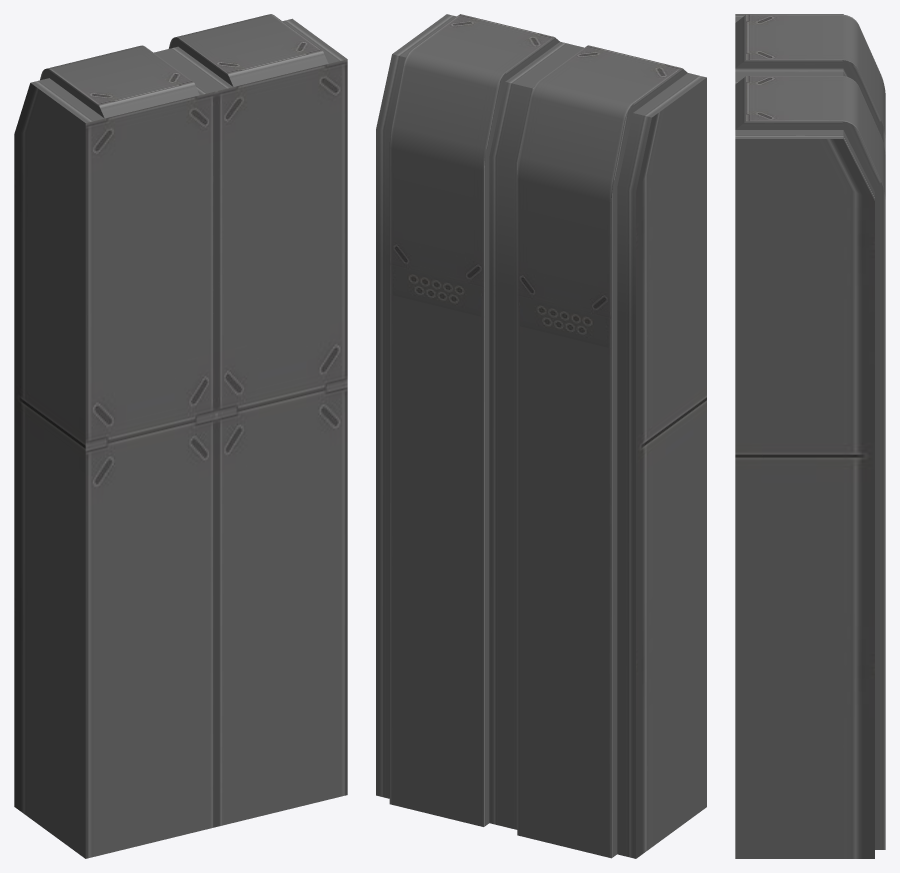
The picture shows the model from 3 angles, left to right: view 1: azimuth 30°, elevation 25°; view 2: azimuth 150°, elevation 25°; view 3: azimuth 270°, elevation 25°; orthographic projection. The views are drawn at different scales.
Visible parts, largest first — view 1: Prop_Locker; view 2: Prop_Locker; view 3: Prop_Locker.
Part boxes in pixels (x1,y1,x2,y2): Prop_Locker: (14, 14, 347, 858); Prop_Locker: (376, 14, 706, 858); Prop_Locker: (735, 14, 885, 858).
Bounding box in the file's own units: 0.6886 × 1.87 × 0.3498.
1 material, 1 textured.
